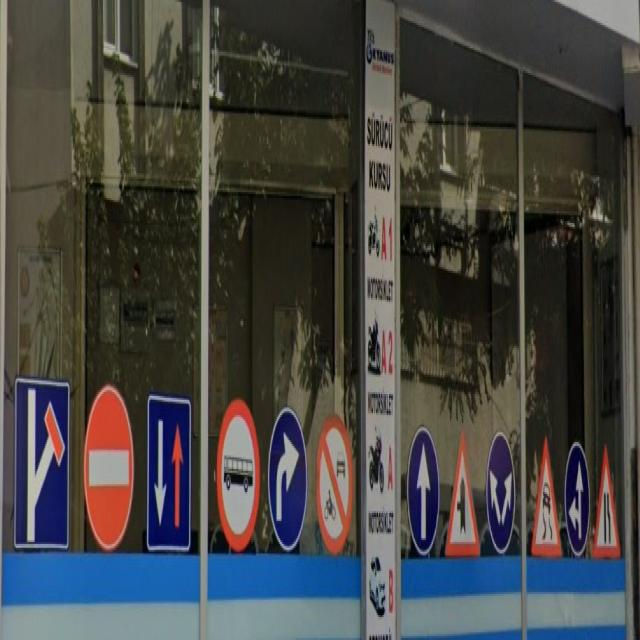girisyok: (82, 388, 133, 550)
ilerisol: (565, 442, 590, 557)
sag: (268, 408, 306, 552)
